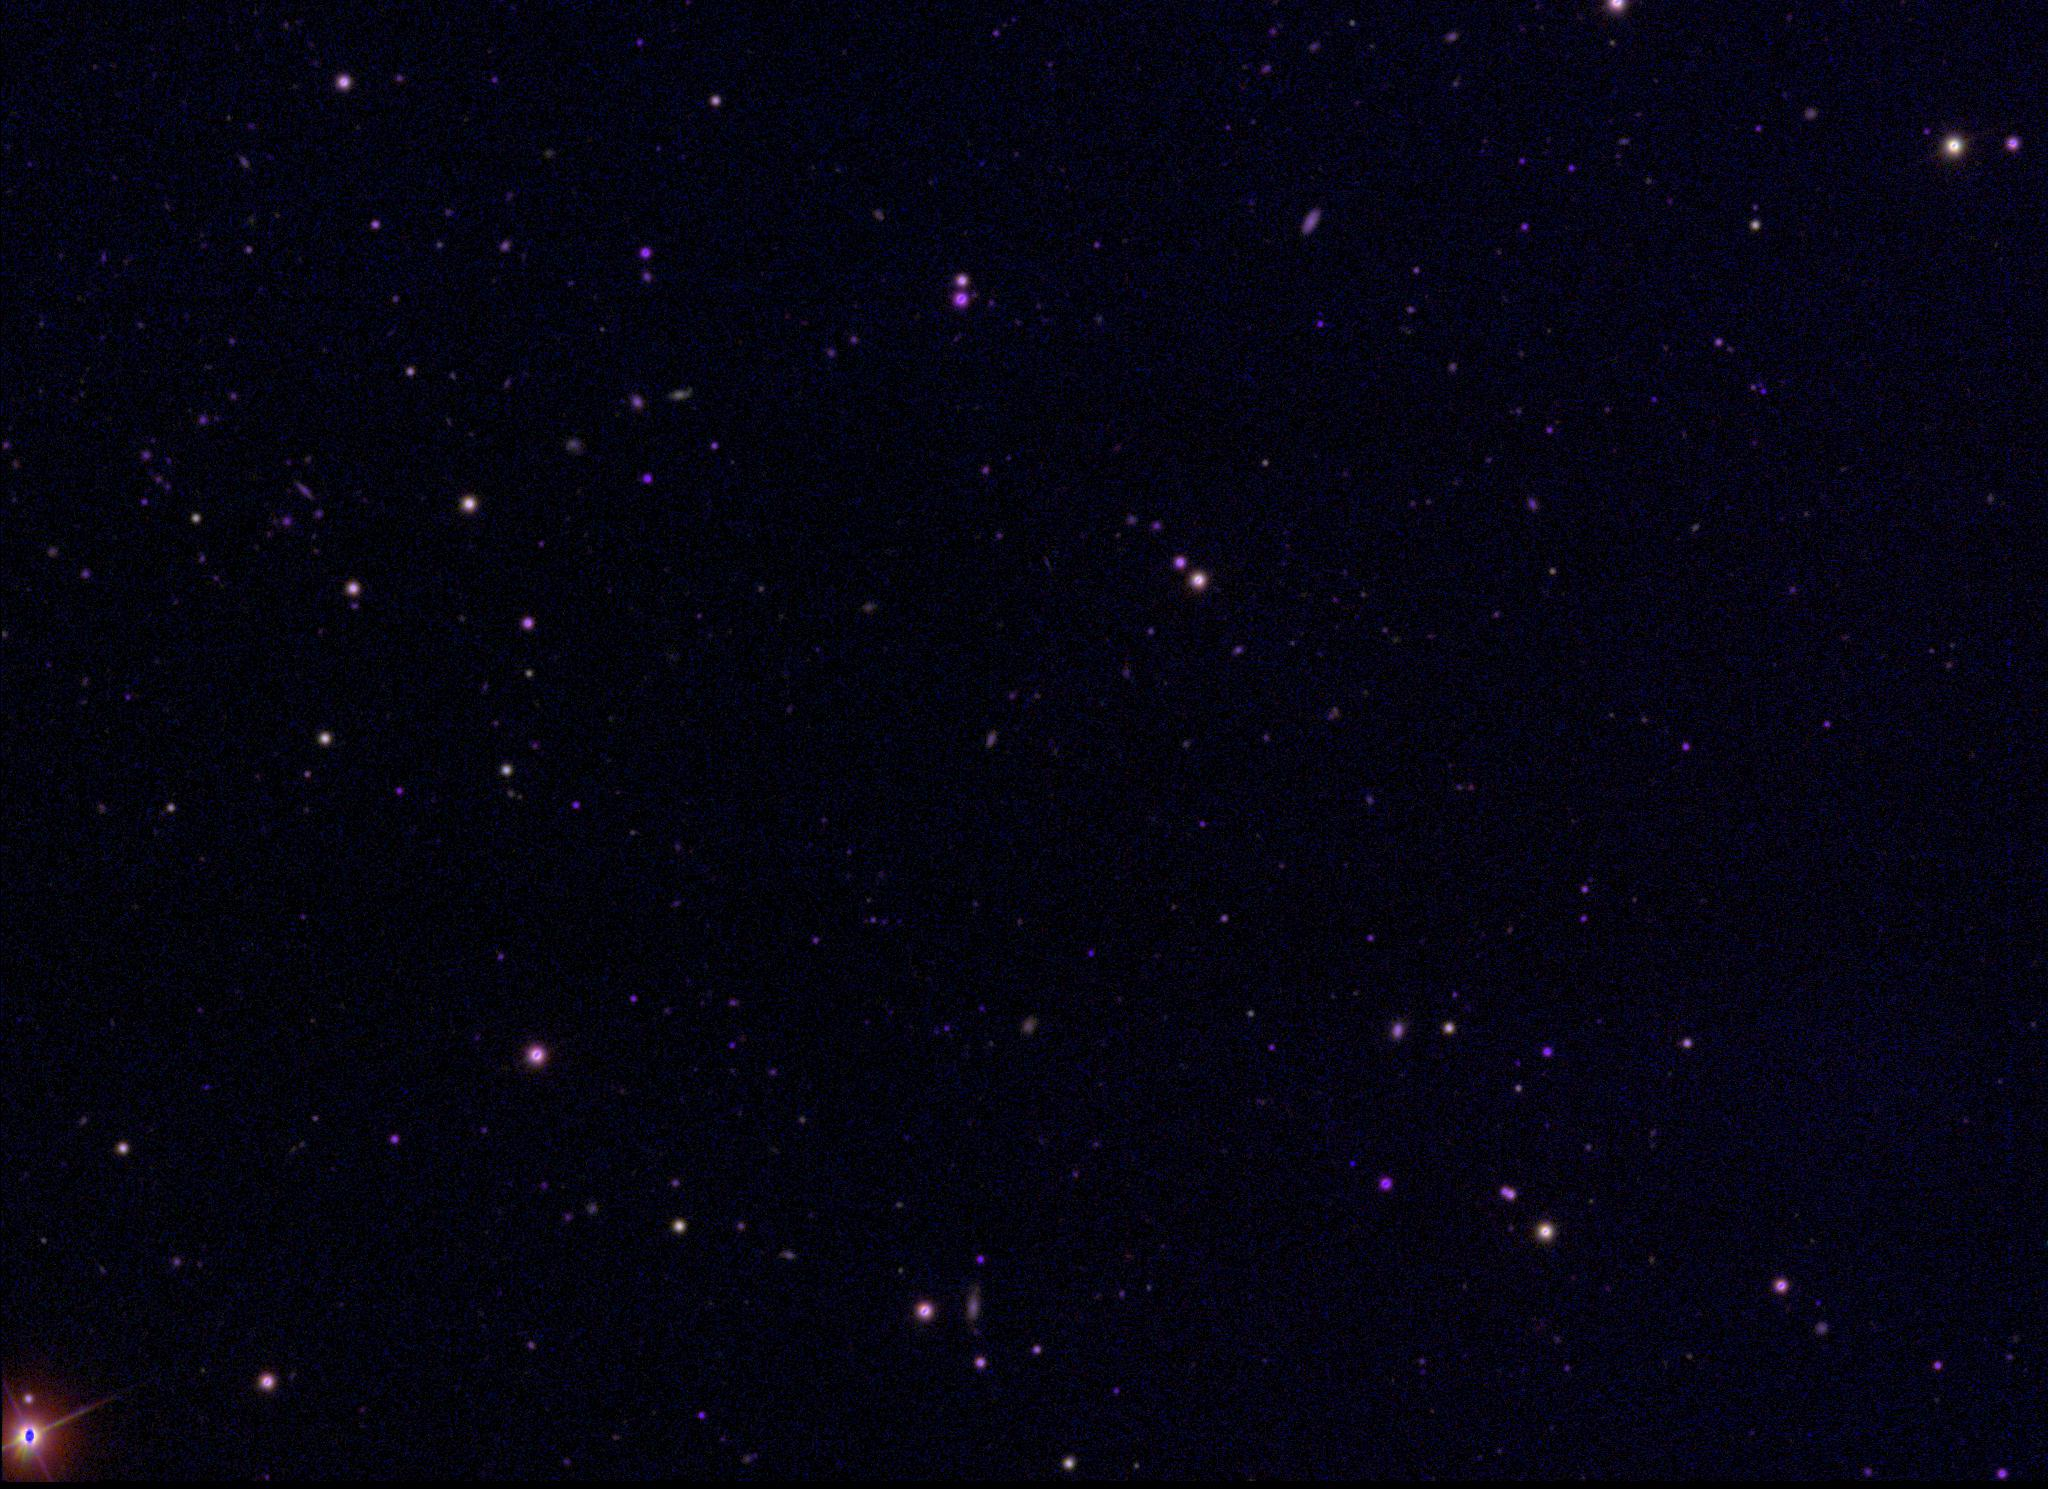L: (1347, 1157, 1360, 1171)
